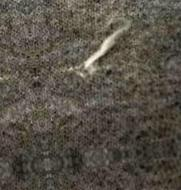snag: (74, 15, 138, 80)
